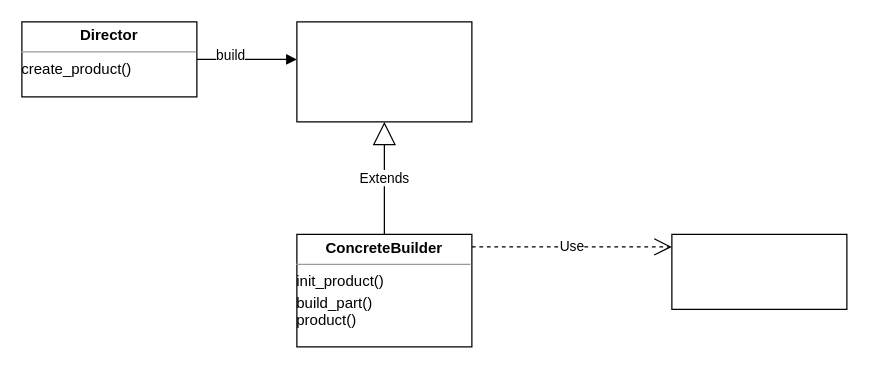
The diagram is 869 pixels wide and 369 high, and some of its shapes have lost their labels. The shapes that lost their labels are listed below. From the top down, each one's centre as x and y in pixels, then its label:
At (x=384, y=71): "Builder init_product() build_part()".
At (x=759, y=271): "Product".
